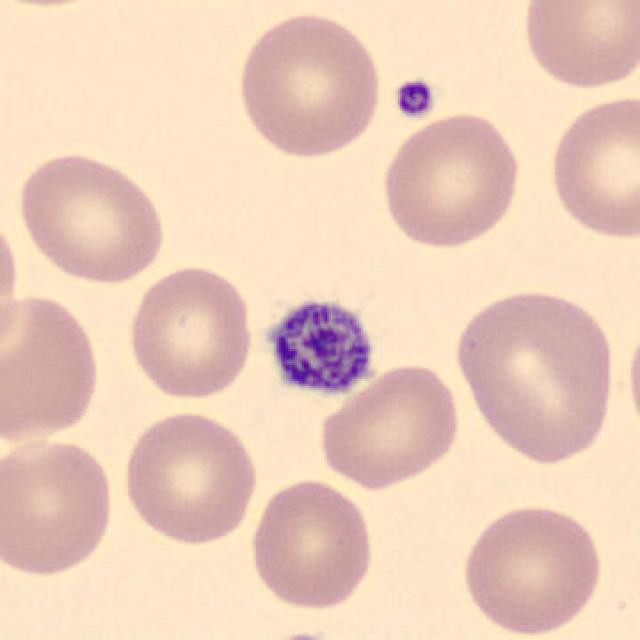Platelets: (260, 292, 380, 403), (388, 74, 438, 123)
RBC: (450, 284, 620, 467), (233, 9, 384, 160), (12, 146, 169, 288), (377, 108, 526, 252), (457, 499, 606, 638), (118, 408, 262, 548), (314, 360, 466, 492), (123, 261, 256, 402), (245, 474, 379, 612), (0, 434, 119, 580), (0, 289, 103, 448), (544, 90, 640, 241), (515, 0, 638, 93), (0, 208, 25, 360), (624, 305, 640, 451), (0, 0, 116, 11)
